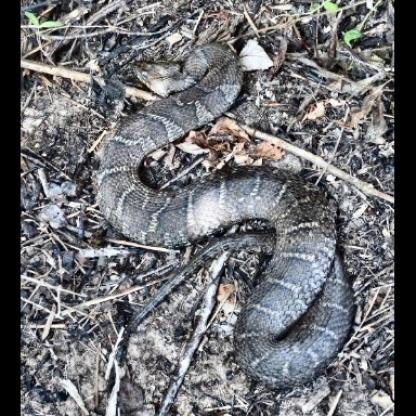Snake: (88, 39, 356, 389)
